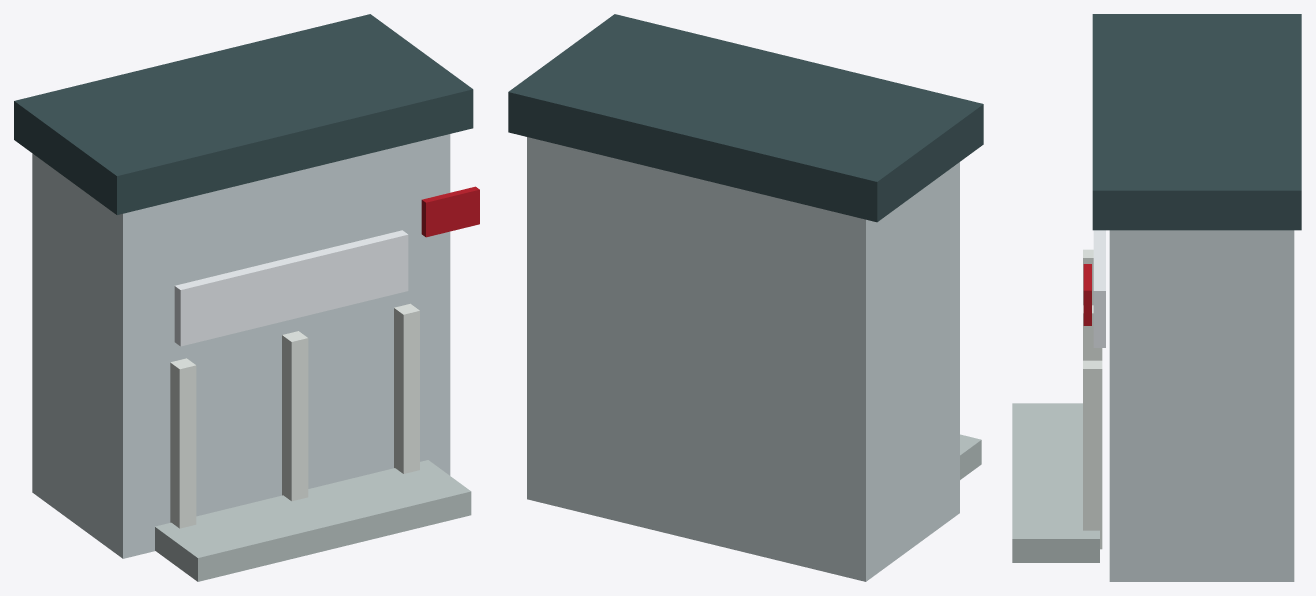
Rendered from sgk_office.glb.
3 renders of one model, left to right at view 1: azimuth 30°, elevation 25°; view 2: azimuth 150°, elevation 25°; view 3: azimuth 270°, elevation 25°, orthographic. The views are drawn at different scales.
Visible parts, largest first — view 1: body, roof, step, sign, column_0, column_-0.54, column_0.54, flag; view 2: body, roof, step; view 3: body, roof, step, column_0.54, sign, column_0, flag.
Part boxes in pixels (box(x1,y1,x2,y2)): body: box(32, 134, 450, 558); roof: box(14, 14, 473, 214); step: box(155, 460, 471, 581); sign: box(174, 230, 408, 346); column_0: box(282, 331, 308, 501); column_-0.54: box(170, 358, 196, 528); column_0.54: box(394, 303, 419, 473); flag: box(421, 186, 479, 237); body: box(527, 137, 959, 581); roof: box(508, 14, 983, 222); step: box(960, 434, 981, 479); body: box(1109, 230, 1294, 581); roof: box(1092, 14, 1301, 230); step: box(1012, 403, 1099, 562); column_0.54: box(1083, 360, 1102, 549); sign: box(1093, 230, 1105, 347); column_0: box(1083, 305, 1102, 360); flag: box(1083, 264, 1091, 325).
Bounding box in the file's own units: 1.73 × 1.81 × 1.19.
